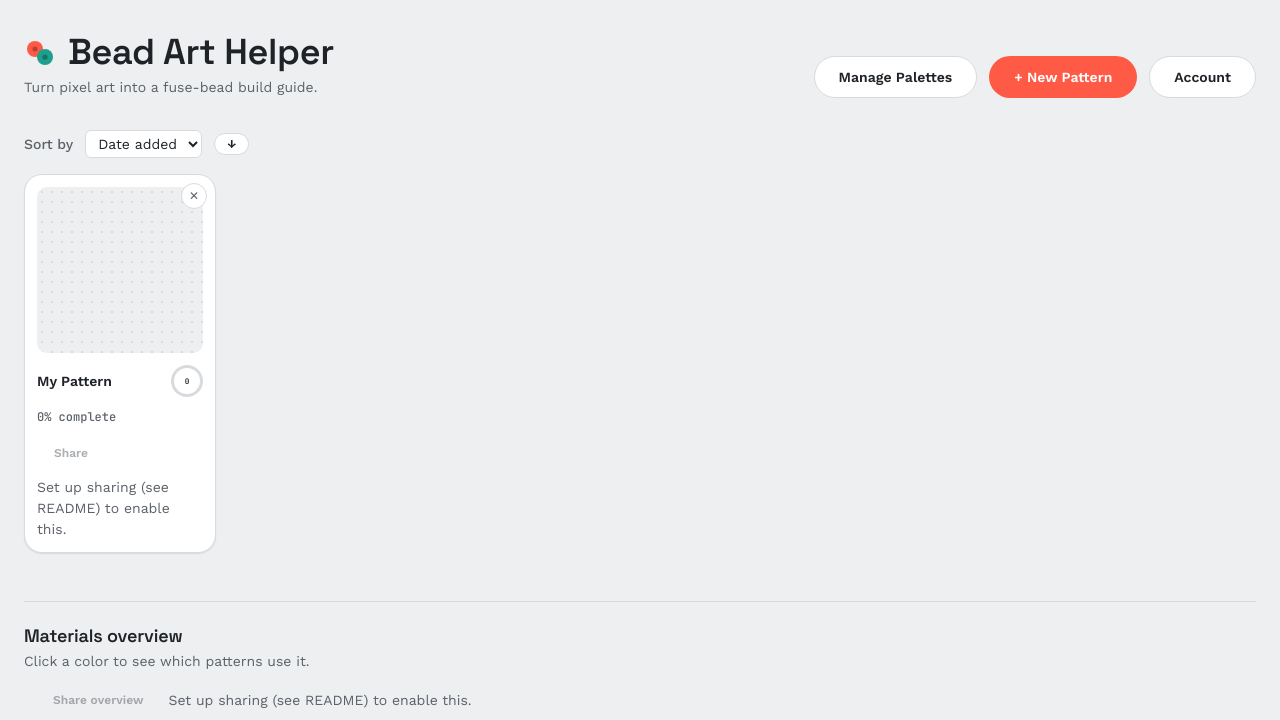
Test: App › opens a saved pattern in the Working view and navigates back to Home
The width and height of the screenshot is (1280, 720).
What coordinates should you click on to do the following:
click the text "My Pattern"
I would click on:
 (74, 381)
Its box is [37,373,112,389].
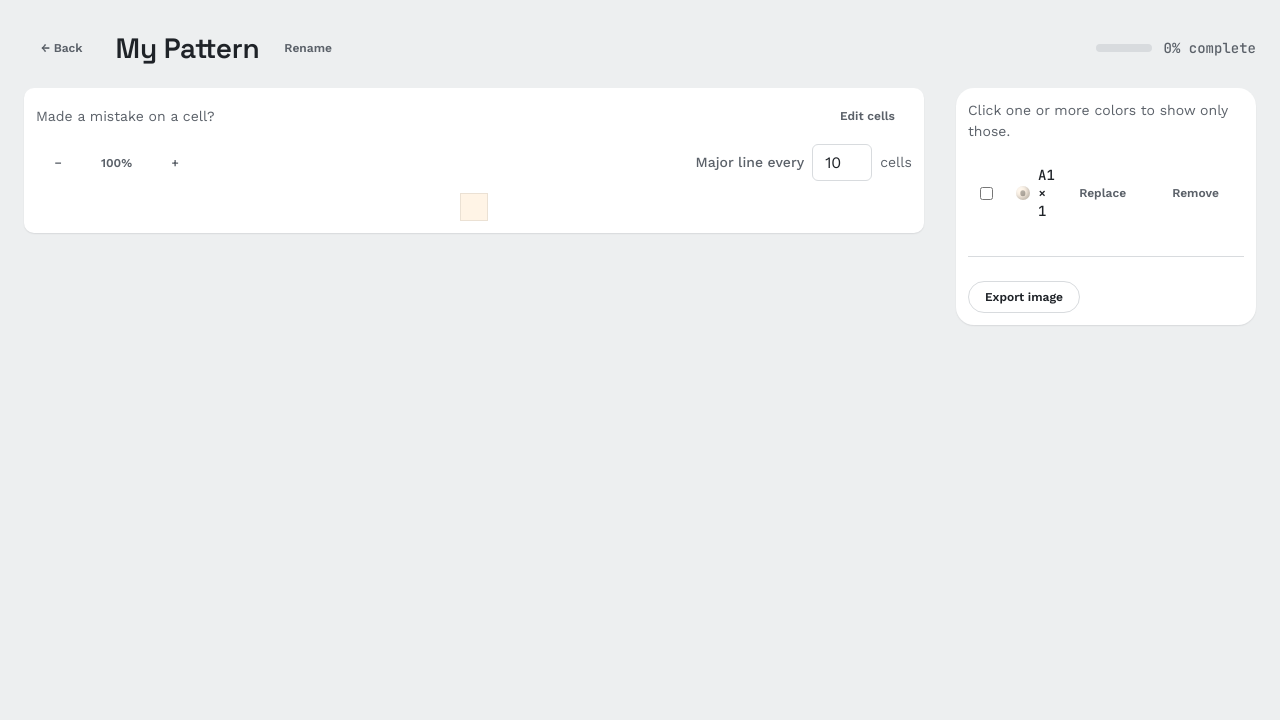
Expected: the button "← Back" is shown
What coordinates should you click on to do the following:
click the button "← Back"
I would click on:
 (62, 48)
Its box is [24,32,100,64].
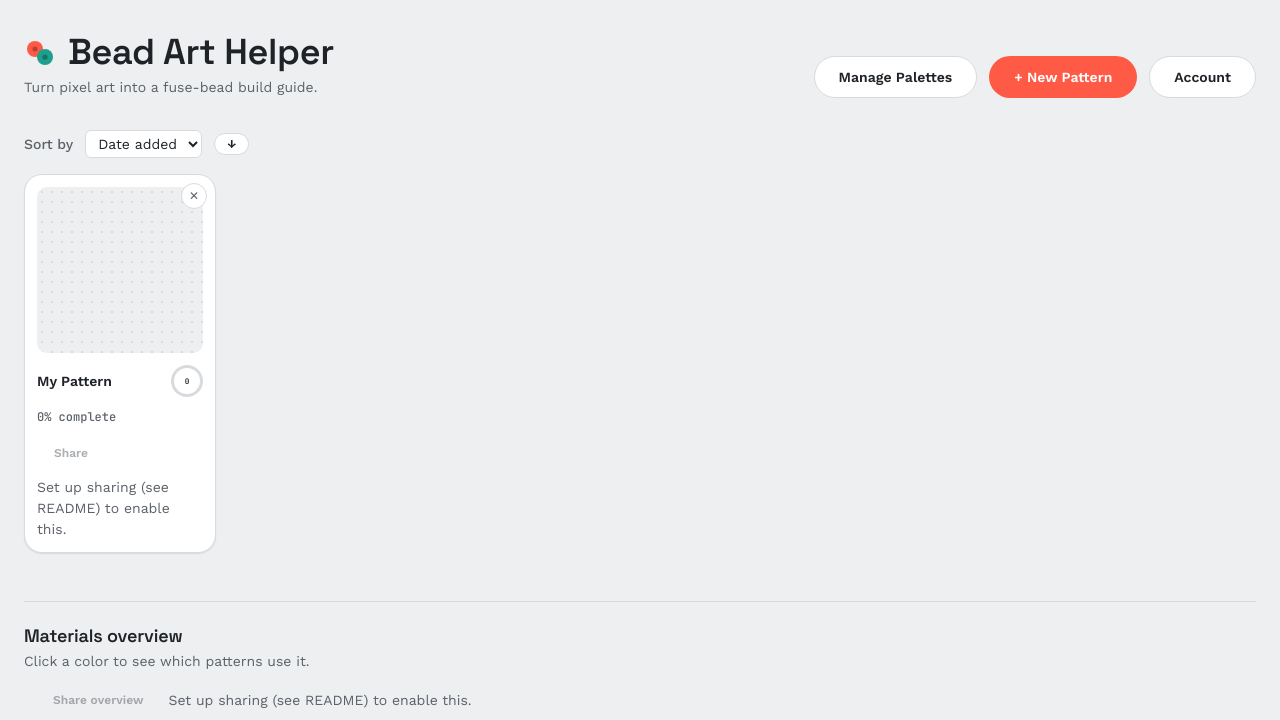
Expected: the button "+ New Pattern" is shown, [989,56,1137,98]
